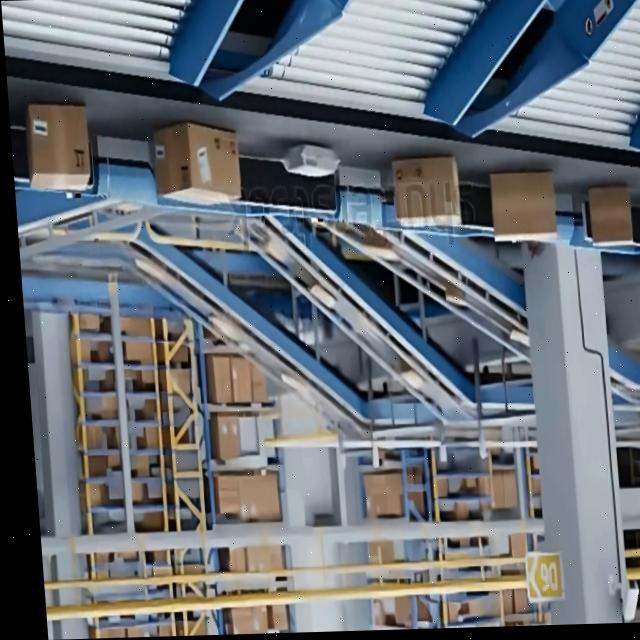product 1: (169, 119, 243, 207), (390, 155, 462, 229), (488, 170, 558, 243)
product 2: (280, 141, 341, 179)
